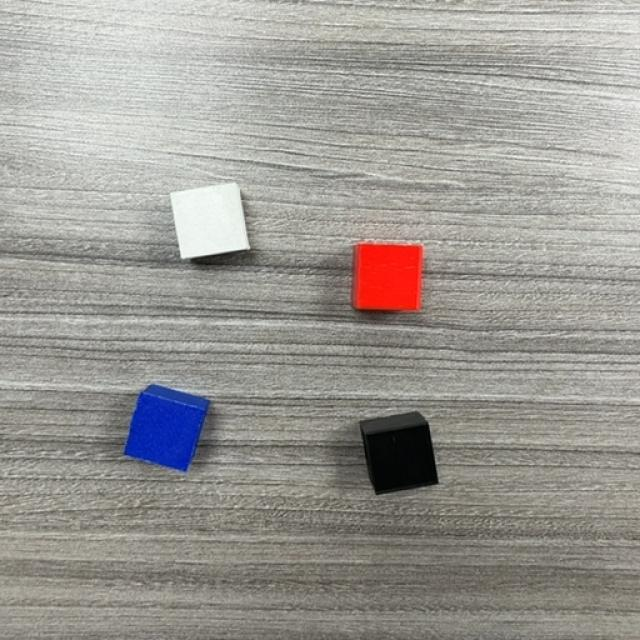Azul: (123, 391, 204, 472)
Blanco: (171, 182, 249, 258)
Negro: (361, 424, 438, 495)
Rojo: (353, 243, 425, 312)
